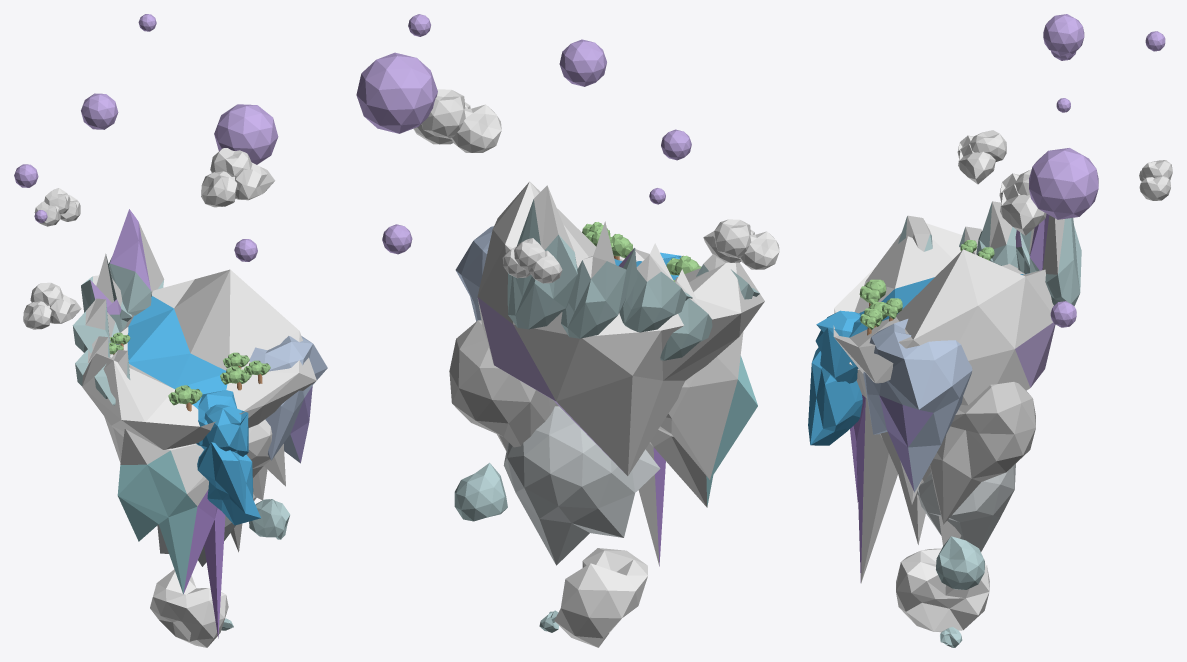
The model's file is fairy_island.glb.
The picture shows the model from 3 angles, left to right: view 1: azimuth 30°, elevation 25°; view 2: azimuth 150°, elevation 25°; view 3: azimuth 270°, elevation 25°; orthographic projection. The views are drawn at different scales.
Parts seen in each view (by area): view 1: Icosphere (×2), Icosphere.001 (×3), Icosphere.002 (×2), Icosphere.007, Icosphere.013 (×3), Icosphere.016, Icosphere.023 (×3), Icosphere.030, Icosphere.024 (×3), Icosphere.015, Icosphere.009 (×2), Icosphere.004 (+8 smaller); view 2: Icosphere (×2), Icosphere.006, Icosphere.001 (×3), Icosphere.003, Icosphere.007, Icosphere.013 (×2), Icosphere.030, Icosphere.010 (×2), Icosphere.009 (×2), Icosphere.023 (×2), Icosphere.024 (×2), Icosphere.005 (+7 smaller); view 3: Icosphere (×3), Icosphere.002 (×2), Icosphere.003, Icosphere.007, Icosphere.001 (×2), Icosphere.030, Icosphere.006, Icosphere.013 (×3), Icosphere.016, Icosphere.015, Icosphere.005, Icosphere.024 (×2) (+7 smaller).
Boxes of the visible parts, x1,y1,x2,y2 form: Icosphere (×2): (82, 269, 316, 462); Icosphere.001 (×3): (117, 429, 225, 638); Icosphere.002 (×2): (249, 336, 327, 463); Icosphere.007: (150, 569, 228, 647); Icosphere.013 (×3): (108, 209, 163, 315); Icosphere.016: (197, 442, 260, 525); Icosphere.023 (×3): (201, 148, 275, 207); Icosphere.030: (214, 104, 278, 164); Icosphere.024 (×3): (23, 282, 81, 329); Icosphere.015: (201, 404, 248, 456); Icosphere.009 (×2): (72, 298, 119, 352); Icosphere.004: (247, 419, 285, 486); Icosphere (×2): (477, 181, 764, 475); Icosphere.006: (503, 406, 660, 565); Icosphere.001 (×3): (638, 331, 757, 566); Icosphere.003: (449, 320, 558, 450); Icosphere.007: (554, 548, 647, 647); Icosphere.013 (×2): (507, 185, 577, 329); Icosphere.030: (356, 52, 437, 133); Icosphere.010 (×2): (561, 221, 637, 338); Icosphere.009 (×2): (619, 243, 692, 332); Icosphere.023 (×2): (421, 89, 501, 152); Icosphere.024 (×2): (714, 219, 779, 269); Icosphere.005: (454, 462, 507, 521); Icosphere (×3): (833, 223, 1055, 405); Icosphere.002 (×2): (863, 319, 972, 492); Icosphere.003: (930, 382, 1035, 545); Icosphere.007: (896, 548, 989, 632); Icosphere.001 (×2): (849, 362, 897, 583); Icosphere.030: (1029, 148, 1098, 219); Icosphere.006: (916, 463, 1015, 551); Icosphere.013 (×3): (1029, 214, 1081, 306); Icosphere.016: (808, 347, 862, 445); Icosphere.015: (815, 310, 860, 383); Icosphere.005: (936, 536, 984, 589); Icosphere.024 (×2): (958, 130, 1006, 184).
Size of the model in its own units: 6.71 by 12.28 by 6.49.
